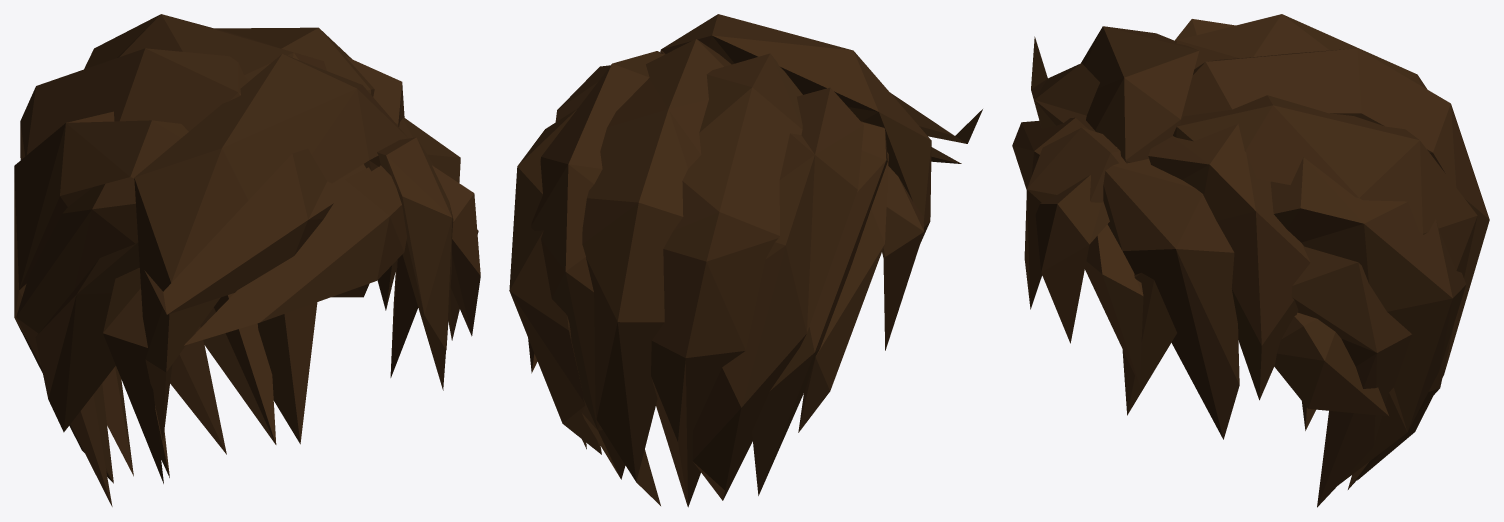
The model's file is hair-parted.mid.27127723.glb.
3 views of the same model, side by side, from view 1: azimuth 30°, elevation 25°; view 2: azimuth 150°, elevation 25°; view 3: azimuth 270°, elevation 25° (orthographic). The views are drawn at different scales.
Visible parts, largest first — view 1: hair-parted; view 2: hair-parted; view 3: hair-parted.
Part boxes in pixels (bbox=[...]): hair-parted: bbox=[14, 14, 480, 506]; hair-parted: bbox=[509, 14, 982, 507]; hair-parted: bbox=[1012, 14, 1489, 507].
Bounding box in the file's own units: 0.223 × 0.2606 × 0.2552.
